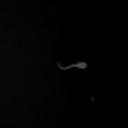fish: (56, 60, 88, 71)
